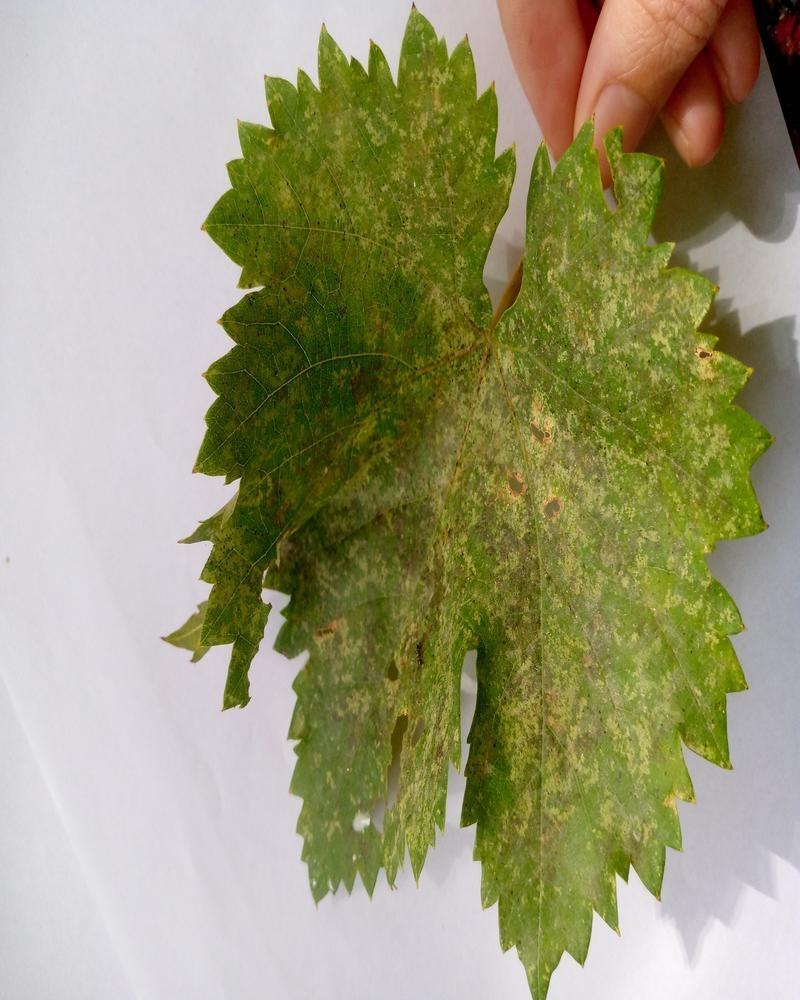Powdery-Mildew: (501, 648, 678, 826), (368, 547, 463, 791), (493, 388, 617, 532), (578, 247, 703, 358), (396, 56, 481, 214), (671, 346, 740, 471)
